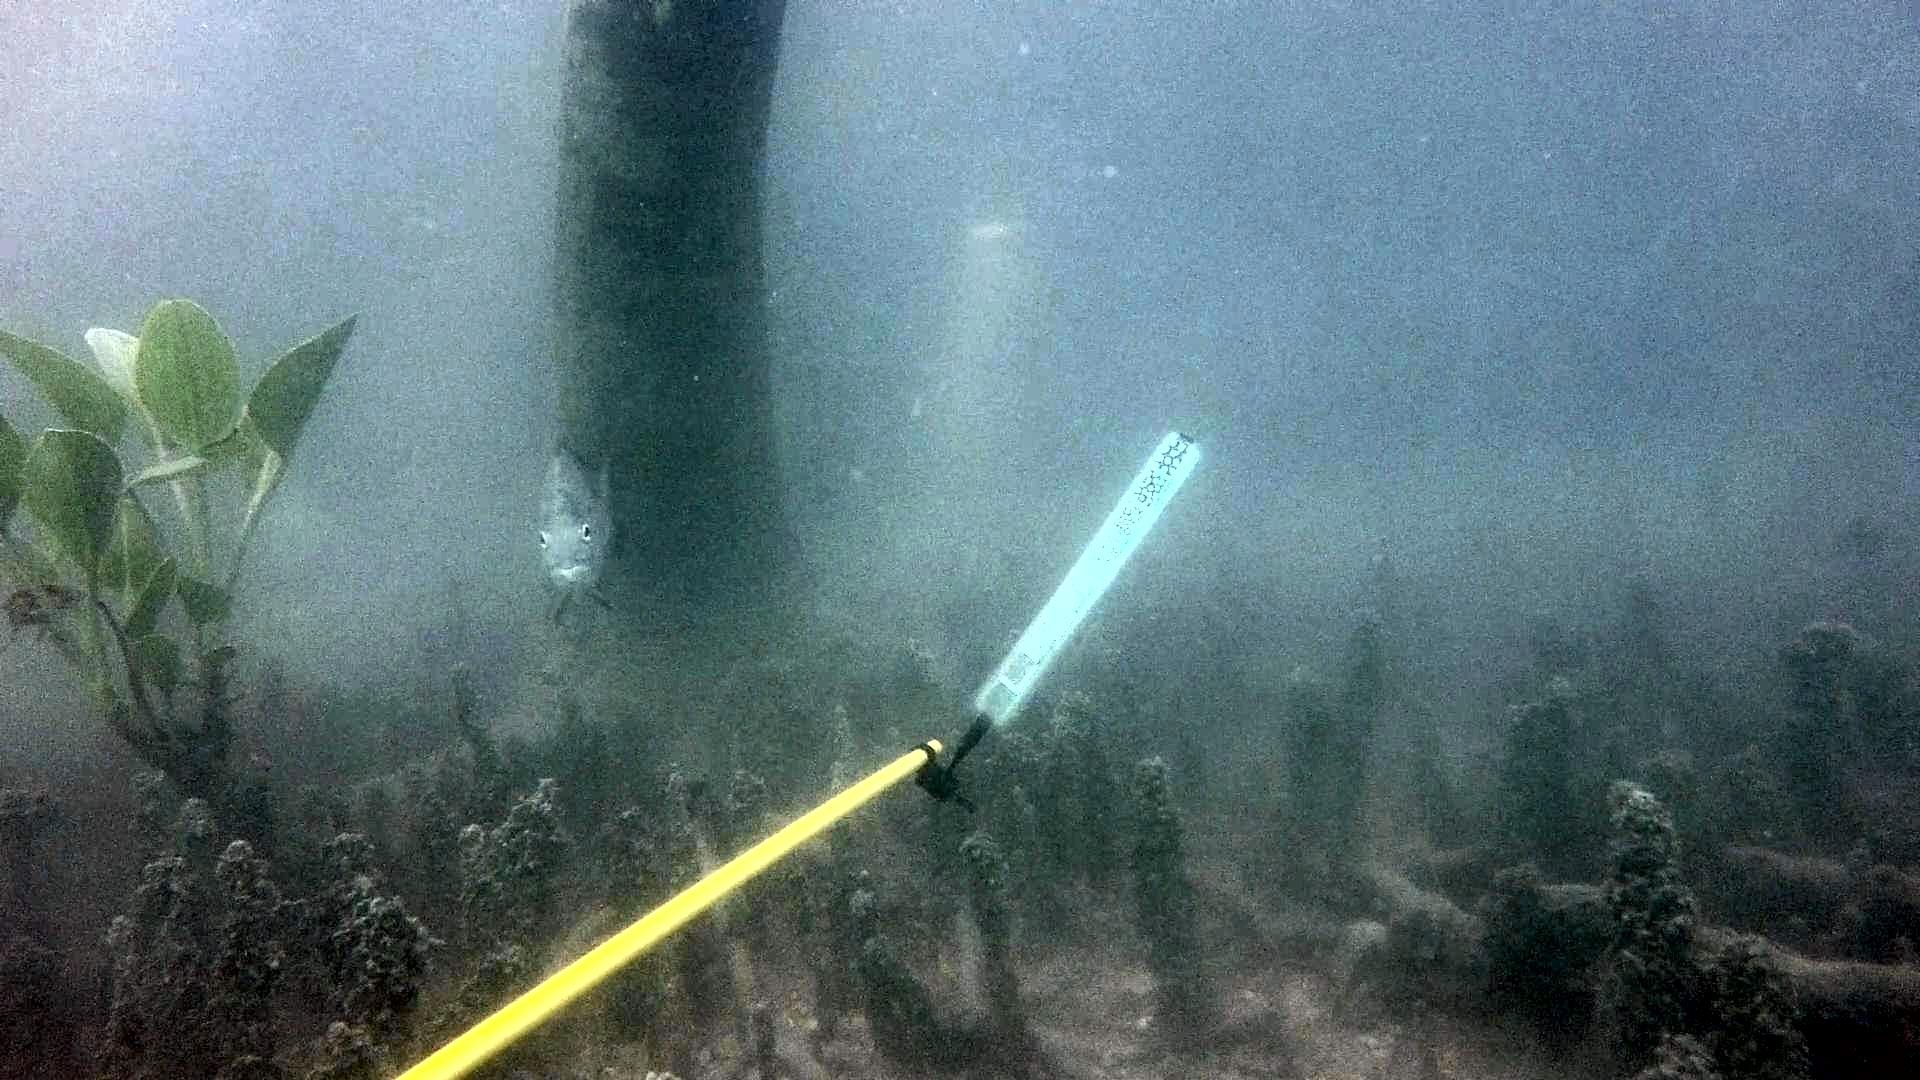acanthopagrus palmaris: (522, 433, 641, 629)
